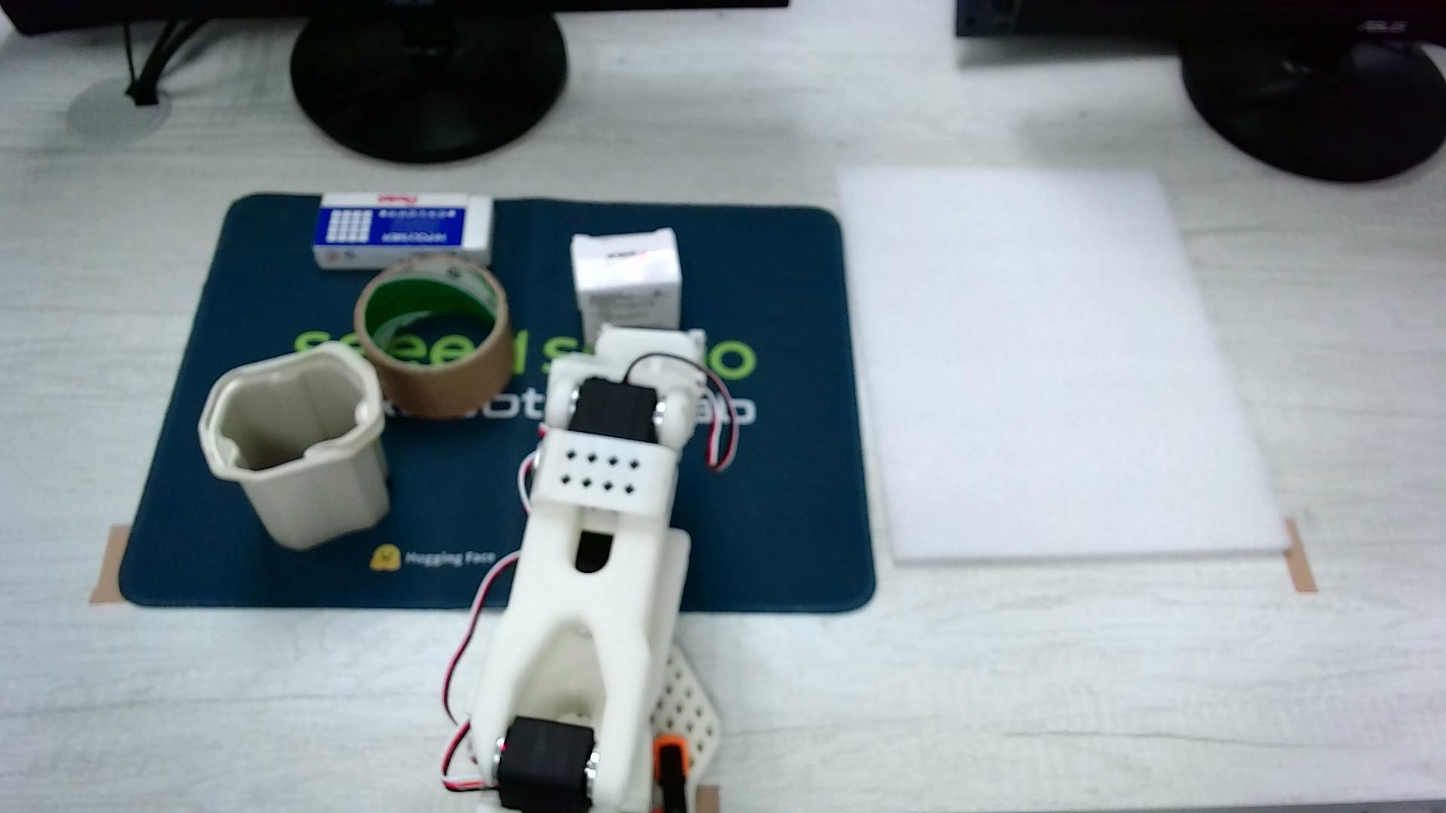eraser: (571, 229, 682, 344)
